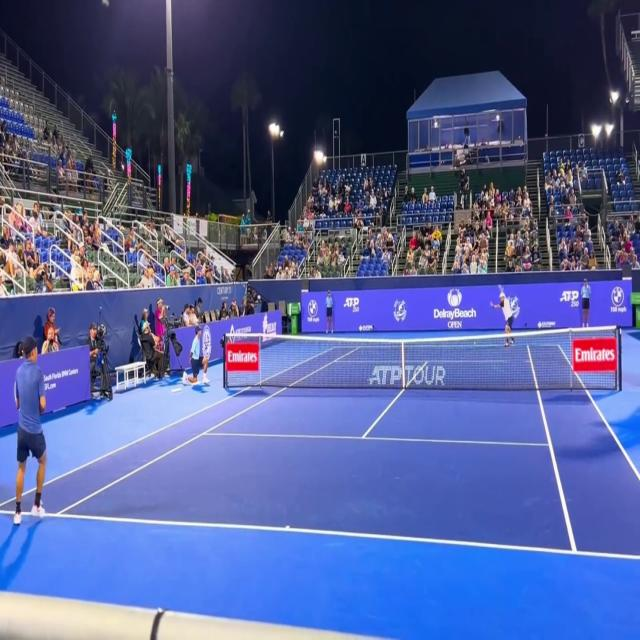tennisBall: (470, 338, 478, 348)
